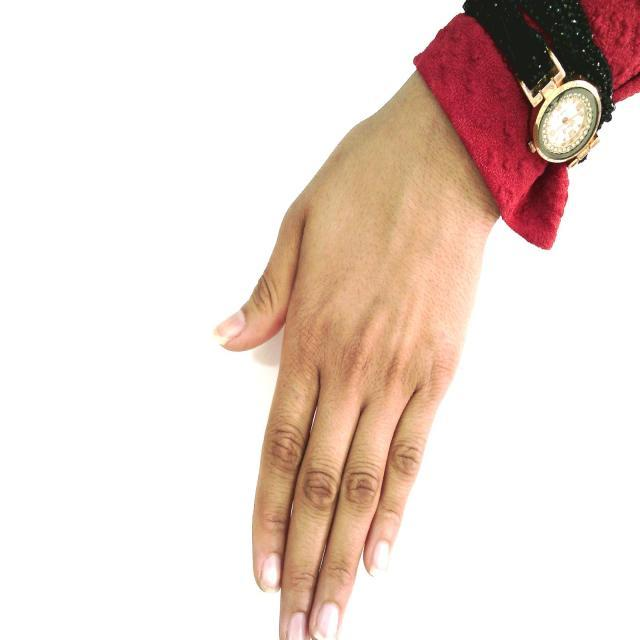Fingernail: (314, 602, 339, 639), (214, 311, 245, 340), (262, 554, 279, 592), (371, 541, 389, 573)
